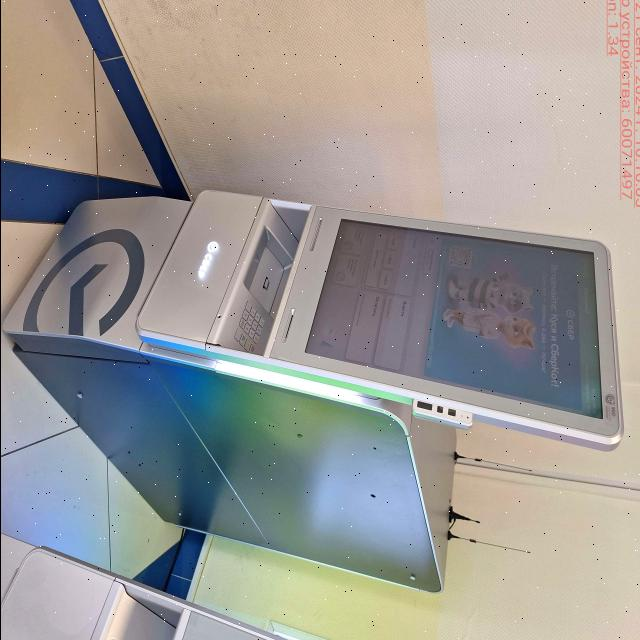bank: (0, 190, 627, 596)
